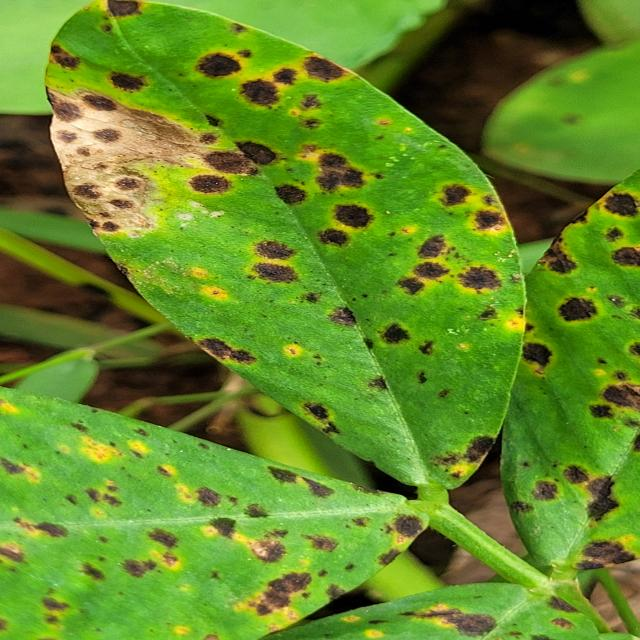Ground nut_tikka leaf spot: (37, 2, 529, 495), (1, 392, 424, 640)
